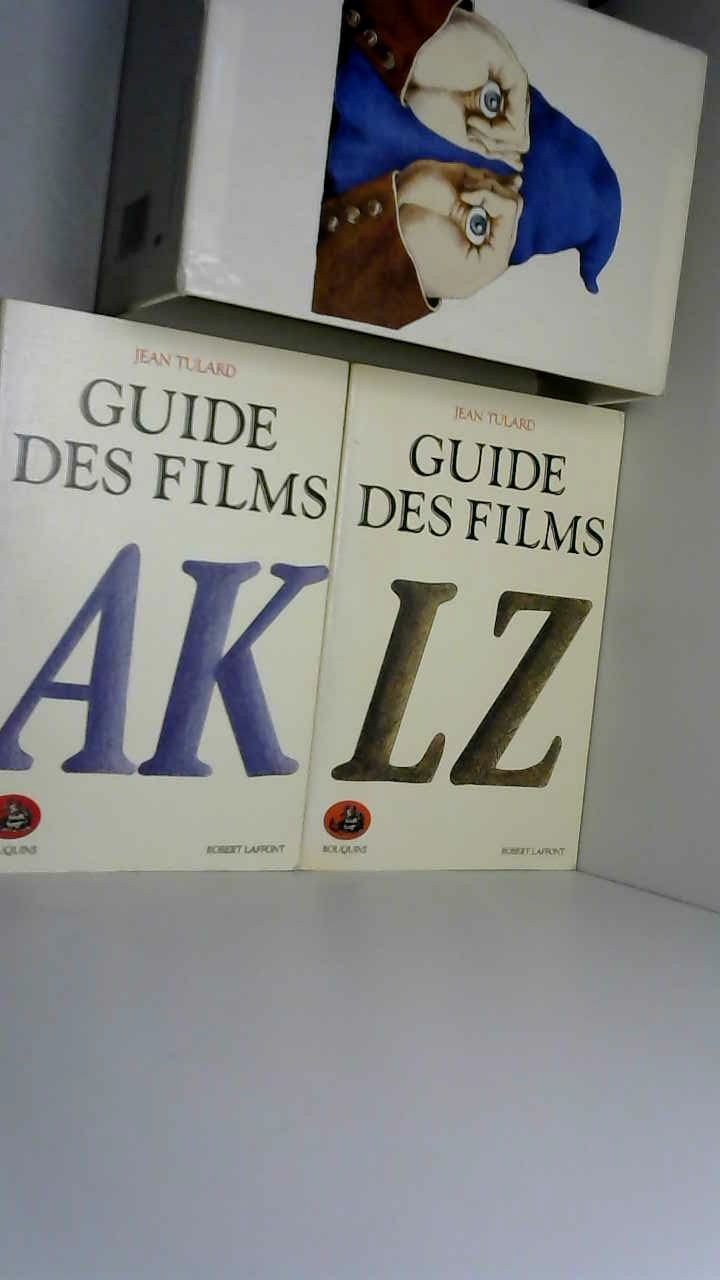book: (0, 0, 710, 901)
